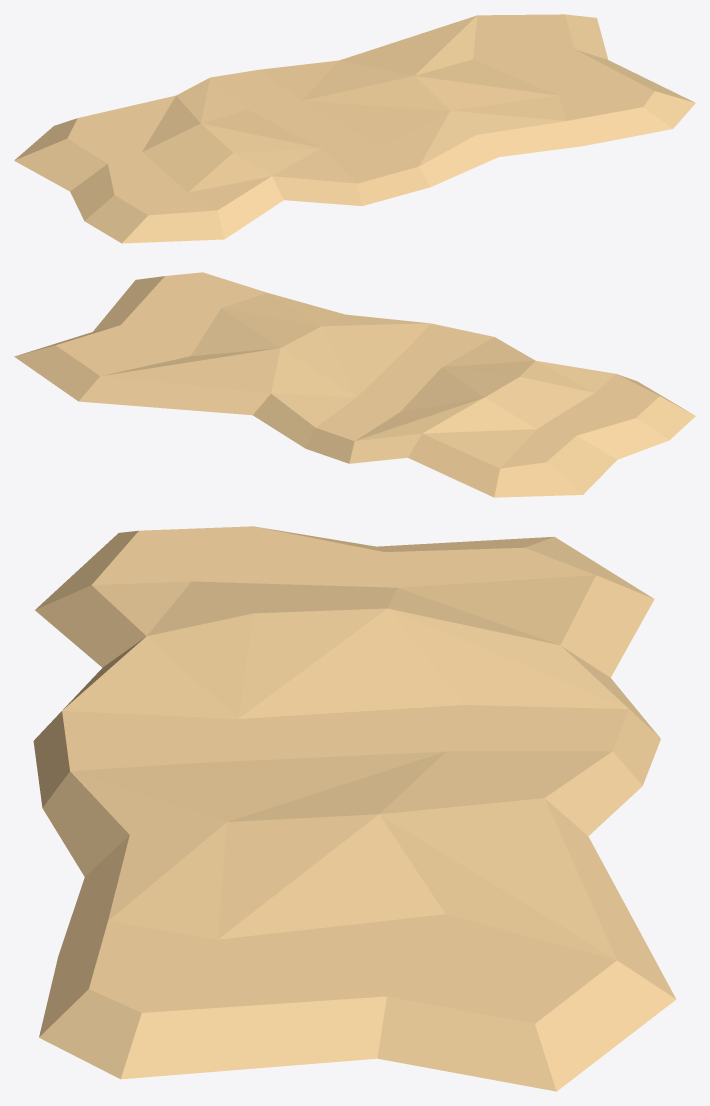
File: Sand.FBX
3 views of the same model, one above another, from view 1: azimuth 30°, elevation 25°; view 2: azimuth 150°, elevation 25°; view 3: azimuth 270°, elevation 25° (orthographic). The views are drawn at different scales.
Parts seen in each view (by area): view 1: Sand; view 2: Sand; view 3: Sand.
Boxes of the visible parts, bbox=[...] form: Sand: bbox=[14, 14, 695, 243]; Sand: bbox=[14, 272, 695, 497]; Sand: bbox=[33, 526, 676, 1091].
Size of the model in its own units: 16.16 by 0.871 by 7.79.
